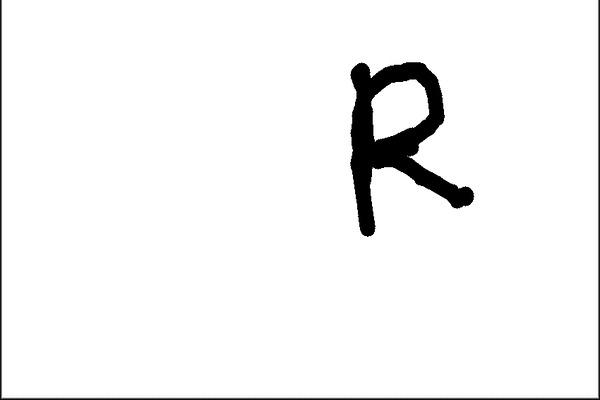R: (337, 49, 482, 237)
